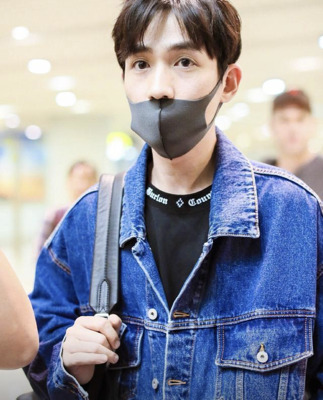mask_weared_incorrect: (122, 38, 222, 160)
without_mask: (274, 112, 310, 153)
